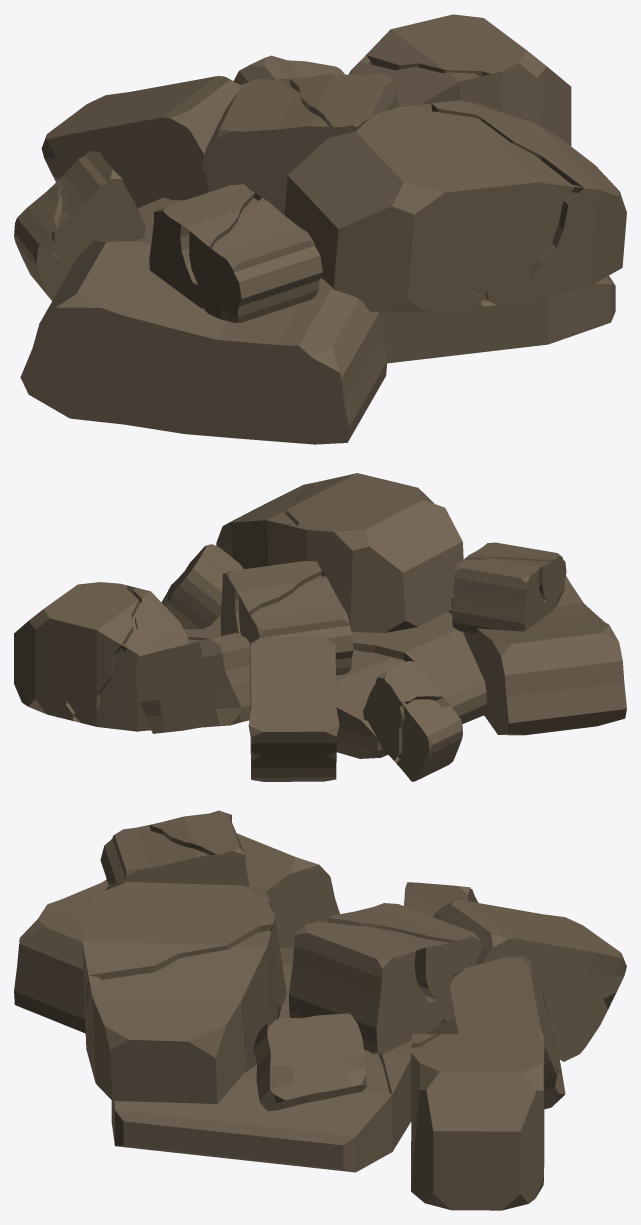
The model's file is RockClusterFour.fbx.
3 renders of one model, top to bottom at view 1: azimuth 30°, elevation 25°; view 2: azimuth 150°, elevation 25°; view 3: azimuth 270°, elevation 25°, orthographic. The views are drawn at different scales.
Visible parts, largest first — view 1: RockCluster; view 2: RockCluster; view 3: RockCluster.
Boxes of the visible parts, <box> form: RockCluster: <box>14,14,626,444</box>; RockCluster: <box>14,473,626,781</box>; RockCluster: <box>14,810,626,1210</box>.
Size of the model in its own units: 124 by 36.27 by 107.
